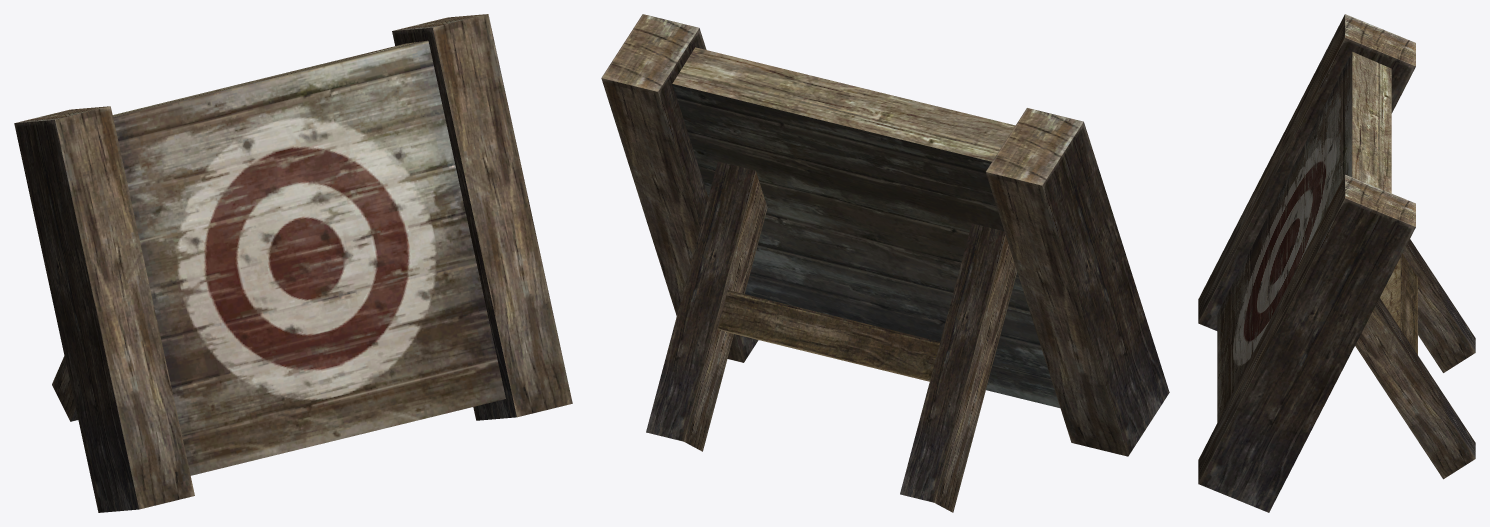
The model's file is thing_target javelin_00.glb.
The picture shows the model from 3 angles, left to right: view 1: azimuth 30°, elevation 25°; view 2: azimuth 150°, elevation 25°; view 3: azimuth 270°, elevation 25°; orthographic projection. The views are drawn at different scales.
Parts seen in each view (by area): view 1: thing_target javelin_00; view 2: thing_target javelin_00; view 3: thing_target javelin_00.
Boxes of the visible parts, x1,y1,x2,y2 form: thing_target javelin_00: (14,14,572,512); thing_target javelin_00: (601,14,1169,512); thing_target javelin_00: (1198,14,1475,512).
Size of the model in its own units: 4.01 by 3.19 by 2.55.
Materials: 1 (1 with a texture image).
